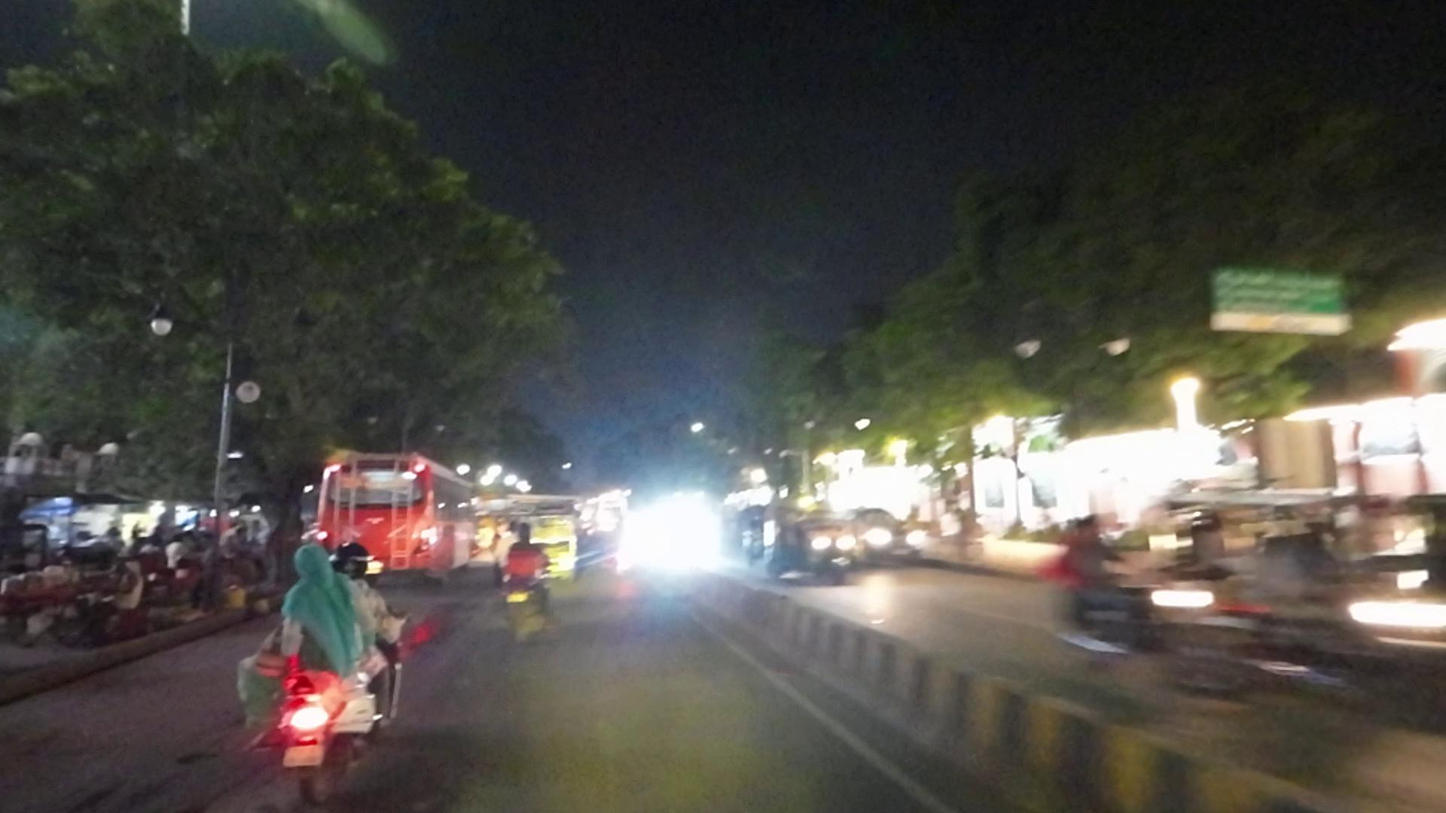streetlight: (1086, 315, 1149, 369), (230, 347, 274, 417), (143, 290, 193, 350), (1002, 321, 1052, 379)
